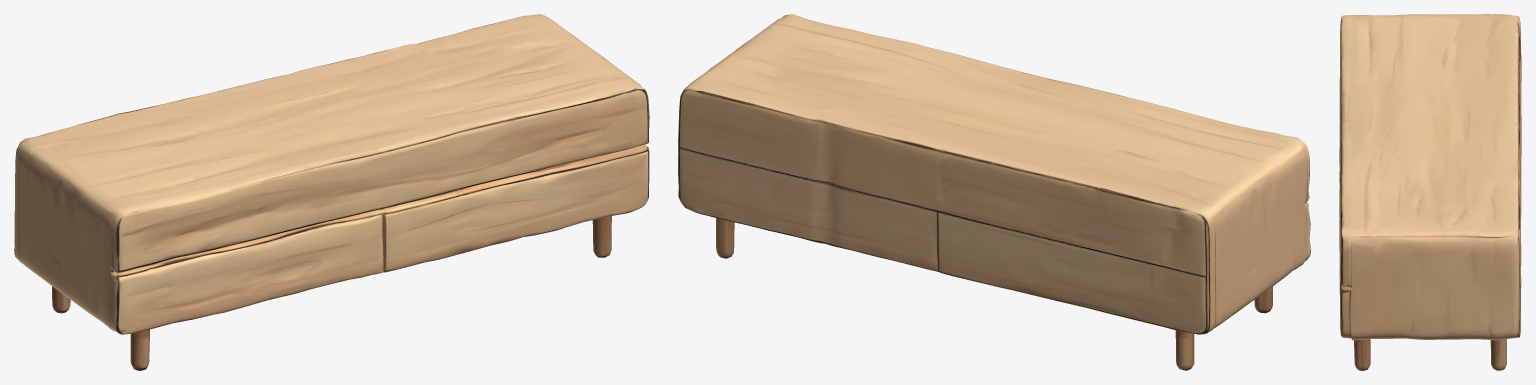
The model's file is raw_tv_stand.glb.
The picture shows the model from 3 angles, left to right: view 1: azimuth 30°, elevation 25°; view 2: azimuth 150°, elevation 25°; view 3: azimuth 270°, elevation 25°; orthographic projection. The views are drawn at different scales.
Parts seen in each view (by area): view 1: tripo_node_4dfcd588-f5e5-42bb-9207-c179226a5260; view 2: tripo_node_4dfcd588-f5e5-42bb-9207-c179226a5260; view 3: tripo_node_4dfcd588-f5e5-42bb-9207-c179226a5260.
Part boxes in pixels (bbox=[...]): tripo_node_4dfcd588-f5e5-42bb-9207-c179226a5260: bbox=[14, 14, 649, 370]; tripo_node_4dfcd588-f5e5-42bb-9207-c179226a5260: bbox=[678, 14, 1310, 370]; tripo_node_4dfcd588-f5e5-42bb-9207-c179226a5260: bbox=[1339, 14, 1521, 370].
Size of the model in its own units: 1 by 0.3098 by 0.3409.
1 material, 1 textured.
